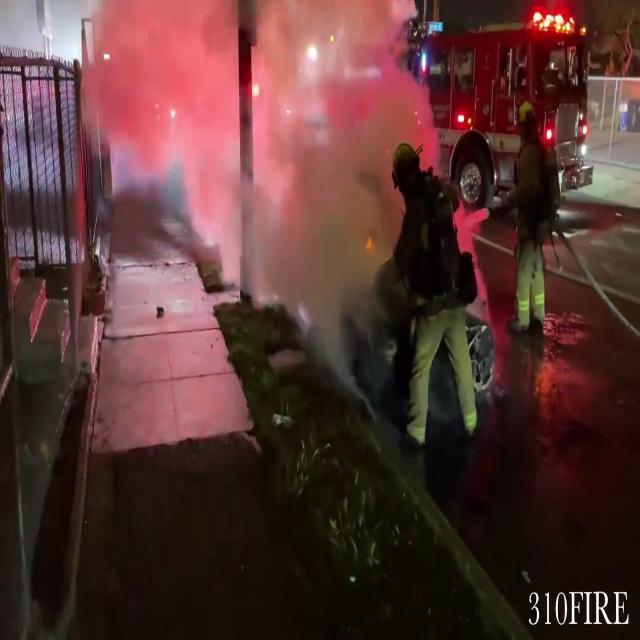Smoke: (253, 0, 421, 372), (83, 0, 236, 237)
